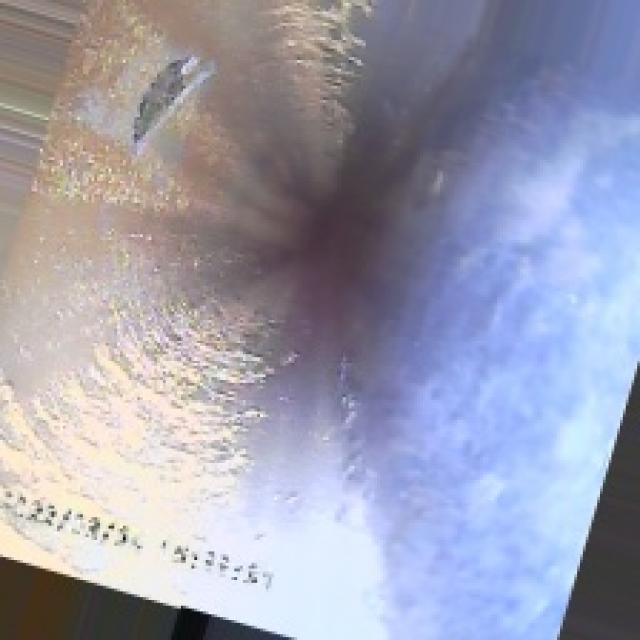pipe_surface_damage: (120, 54, 206, 140)
